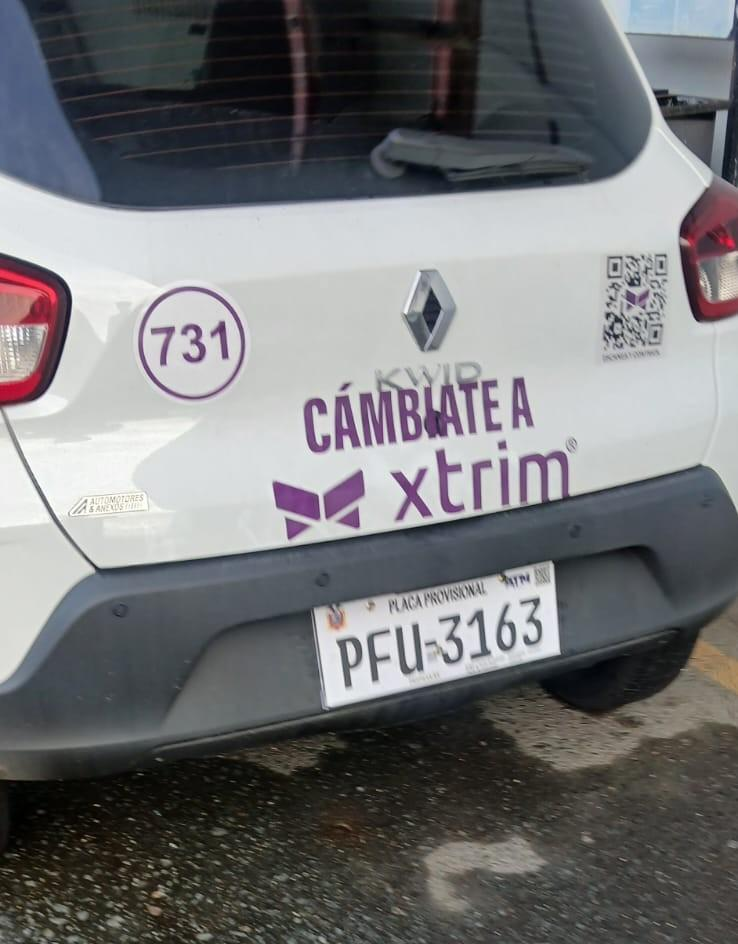license_plate: (311, 563, 558, 712)
